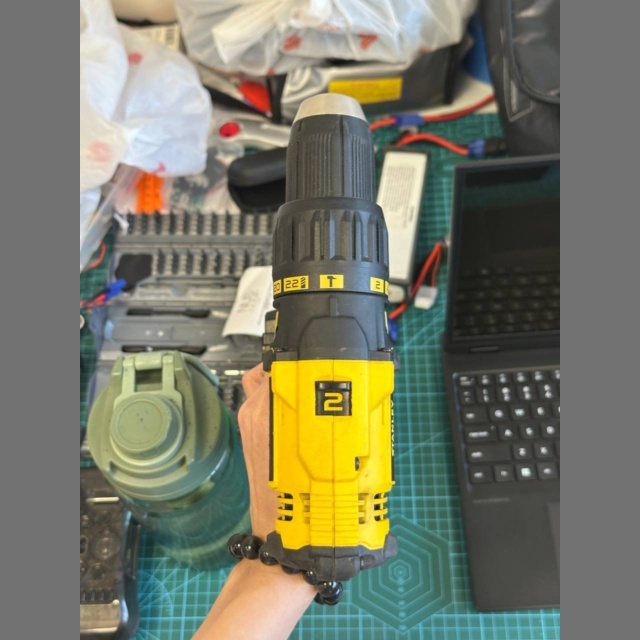drill: (262, 93, 399, 579)
